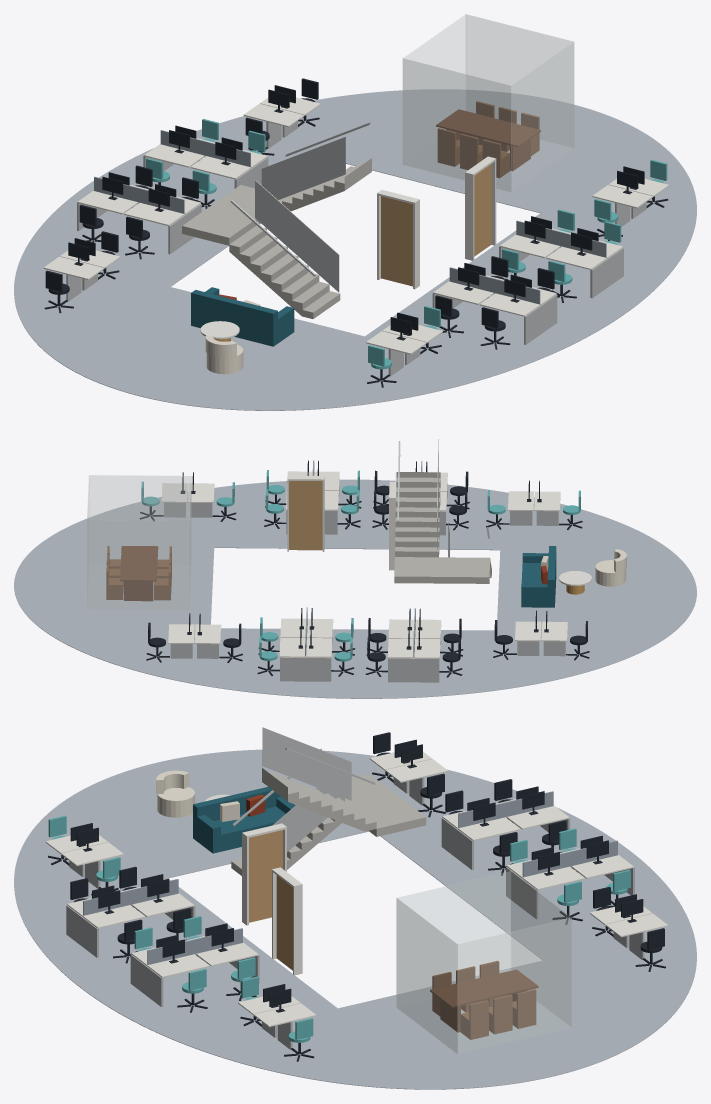
The picture shows the model from 3 angles, top to bottom: view 1: azimuth 30°, elevation 25°; view 2: azimuth 150°, elevation 25°; view 3: azimuth 270°, elevation 25°; orthographic projection. The views are drawn at different scales.
Parts seen in each view (by area): view 1: Pisos, Mobiliario, Elementos genéricos, Escaleras, Barandales, Puertas, Equipo especial; view 2: Pisos, Mobiliario, Elementos genéricos, Escaleras, Puertas, Equipo especial, Barandales; view 3: Pisos, Mobiliario, Elementos genéricos, Equipo especial, Puertas, Escaleras, Barandales.
Part boxes in pixels (x1,y1,x2,y2): Pisos: (14,89,696,410); Mobiliario: (43,78,669,387); Elementos genéricos: (402,14,574,191); Escaleras: (182,158,371,318); Barandales: (230,122,370,292); Puertas: (377,156,496,289); Equipo especial: (68,85,644,340); Pisos: (14,479,696,698); Mobiliario: (106,460,626,682); Elementos genéricos: (87,475,191,609); Escaleras: (394,472,491,583); Puertas: (287,475,396,570); Equipo especial: (180,460,548,649); Barandales: (397,439,489,557); Pisos: (14,749,696,1089); Mobiliario: (45,732,668,1061); Elementos genéricos: (396,871,571,1053); Equipo especial: (70,739,643,1012); Puertas: (242,823,302,975); Escaleras: (231,768,426,875); Barandales: (232,727,375,851).
Bounding box in the file's own units: 17.82 × 4.03 × 15.13.
